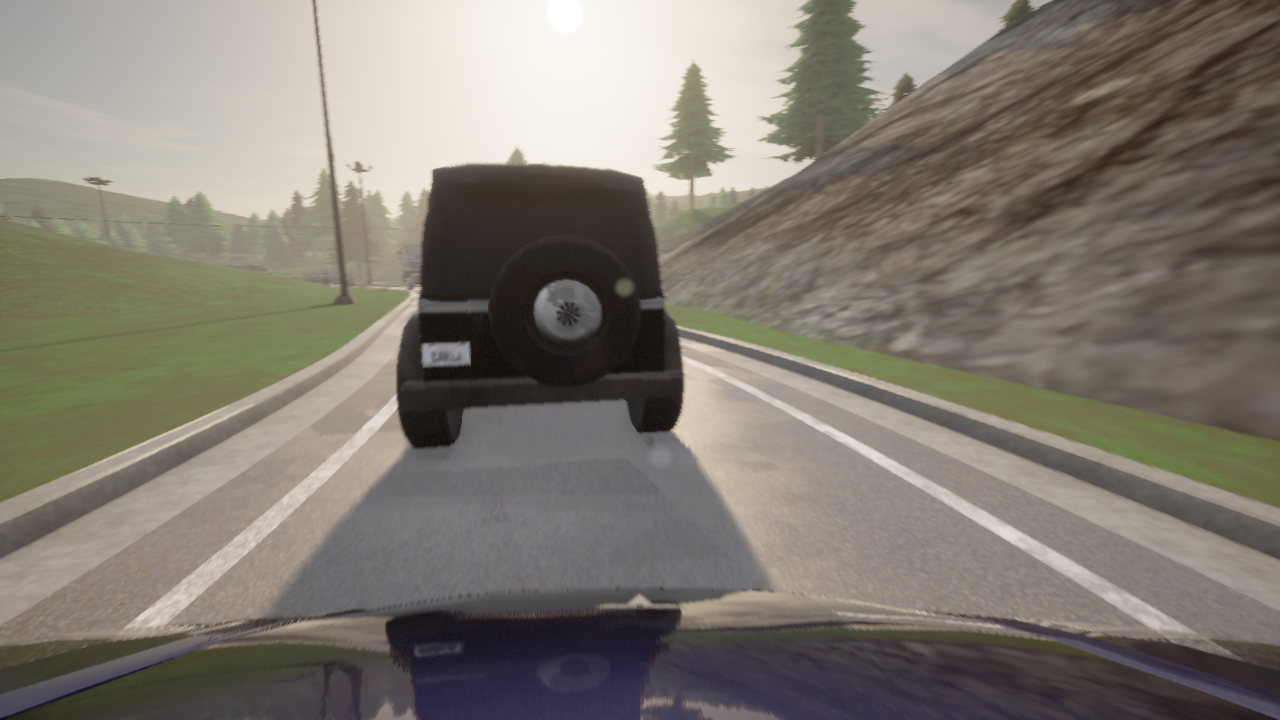cyclist: (0, 588, 1279, 719), (397, 163, 684, 447), (398, 243, 421, 289), (303, 269, 355, 286), (225, 264, 270, 273)
